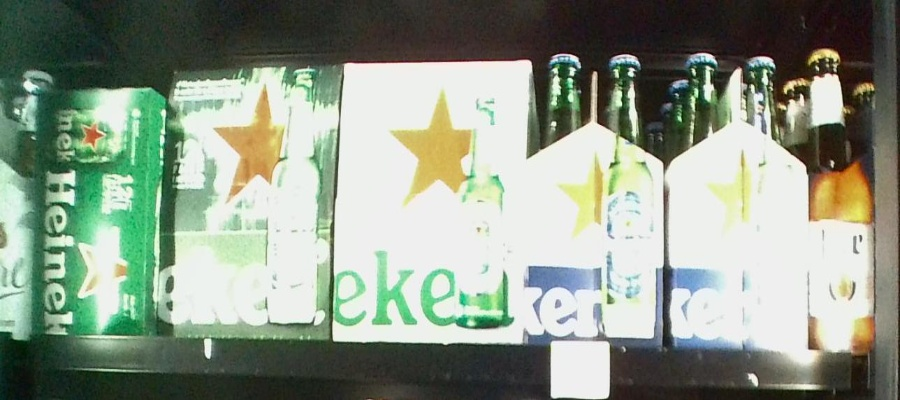bottle: (339, 57, 527, 344), (170, 69, 337, 345), (665, 49, 811, 348), (528, 53, 665, 345), (38, 88, 166, 336)
